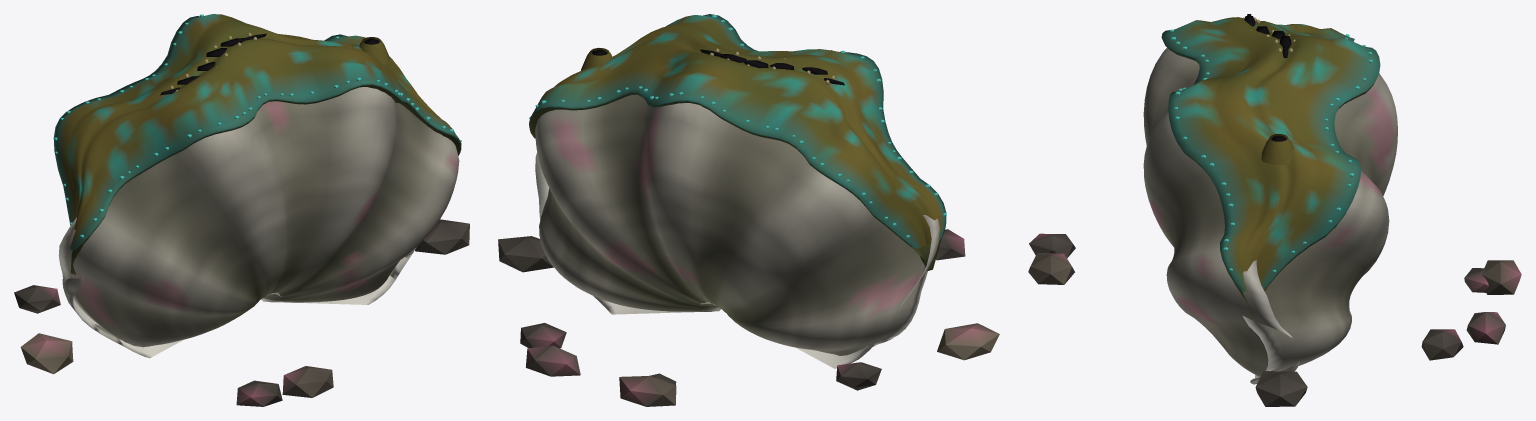
The model's file is GiantClam.fbx.
3 renders of one model, left to right at view 1: azimuth 30°, elevation 25°; view 2: azimuth 150°, elevation 25°; view 3: azimuth 270°, elevation 25°, orthographic.
Parts seen in each view (by area): view 1: GiantClam; view 2: GiantClam; view 3: GiantClam.
Part boxes in pixels (x1,y1,x2,y2): GiantClam: (14,14,469,406); GiantClam: (498,14,999,406); GiantClam: (1028,14,1521,406).
Bounding box in the file's own units: 2.02 × 1.19 × 1.85.
